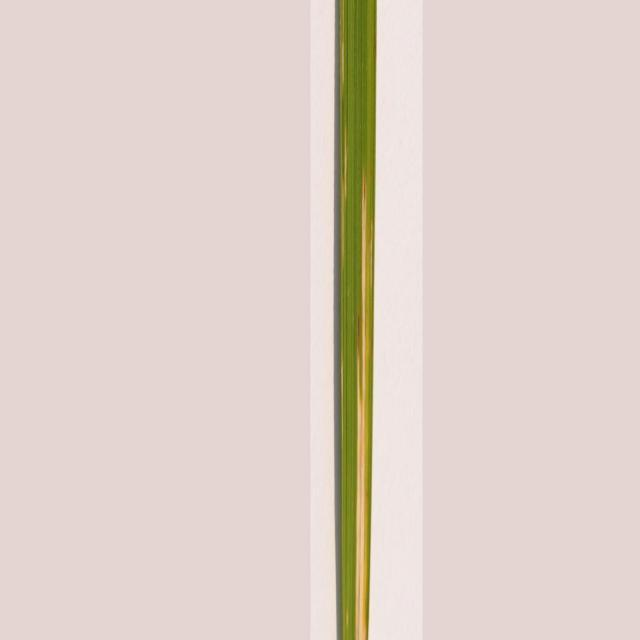leaf blight: (334, 142, 375, 640)
